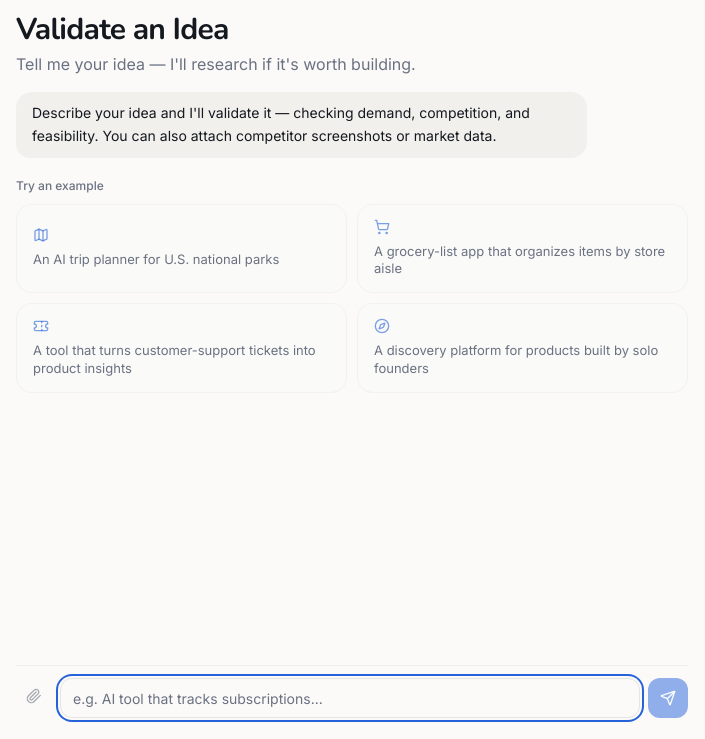
Test: ValidateIdea starter chips › fills and focuses with caret at end without AI, validation, or credit mutation
Click the button "An AI trip planner for U.S. national parks" at coordinates (156, 259), box [16, 204, 347, 293]
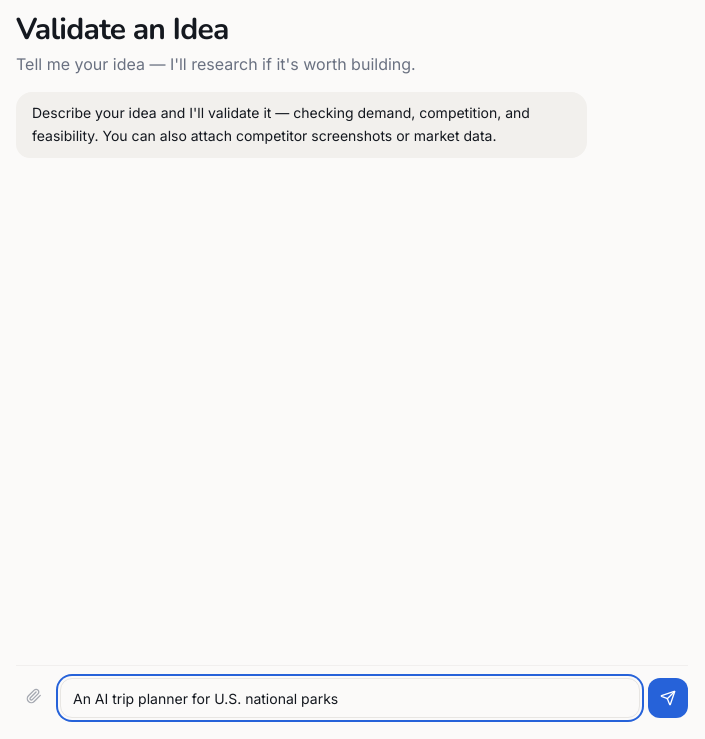
Expected: the field with placeholder "e.g. AI tool that tracks subscriptions..." holds "An AI trip planner for U.S. national parks", [60, 678, 640, 718]
